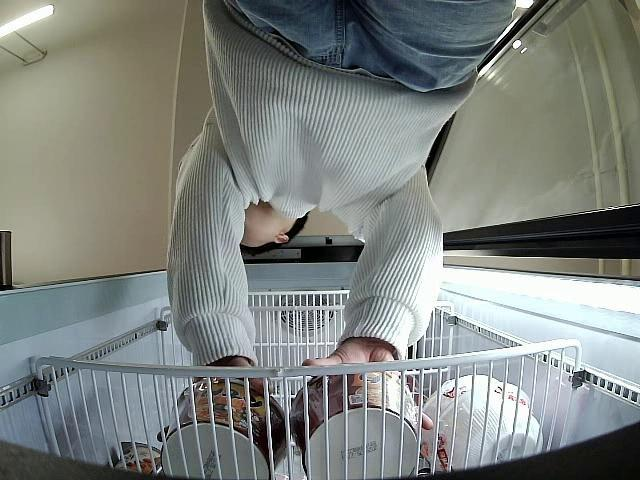05_nuguri_L: (291, 364, 418, 480), (162, 381, 288, 480)
